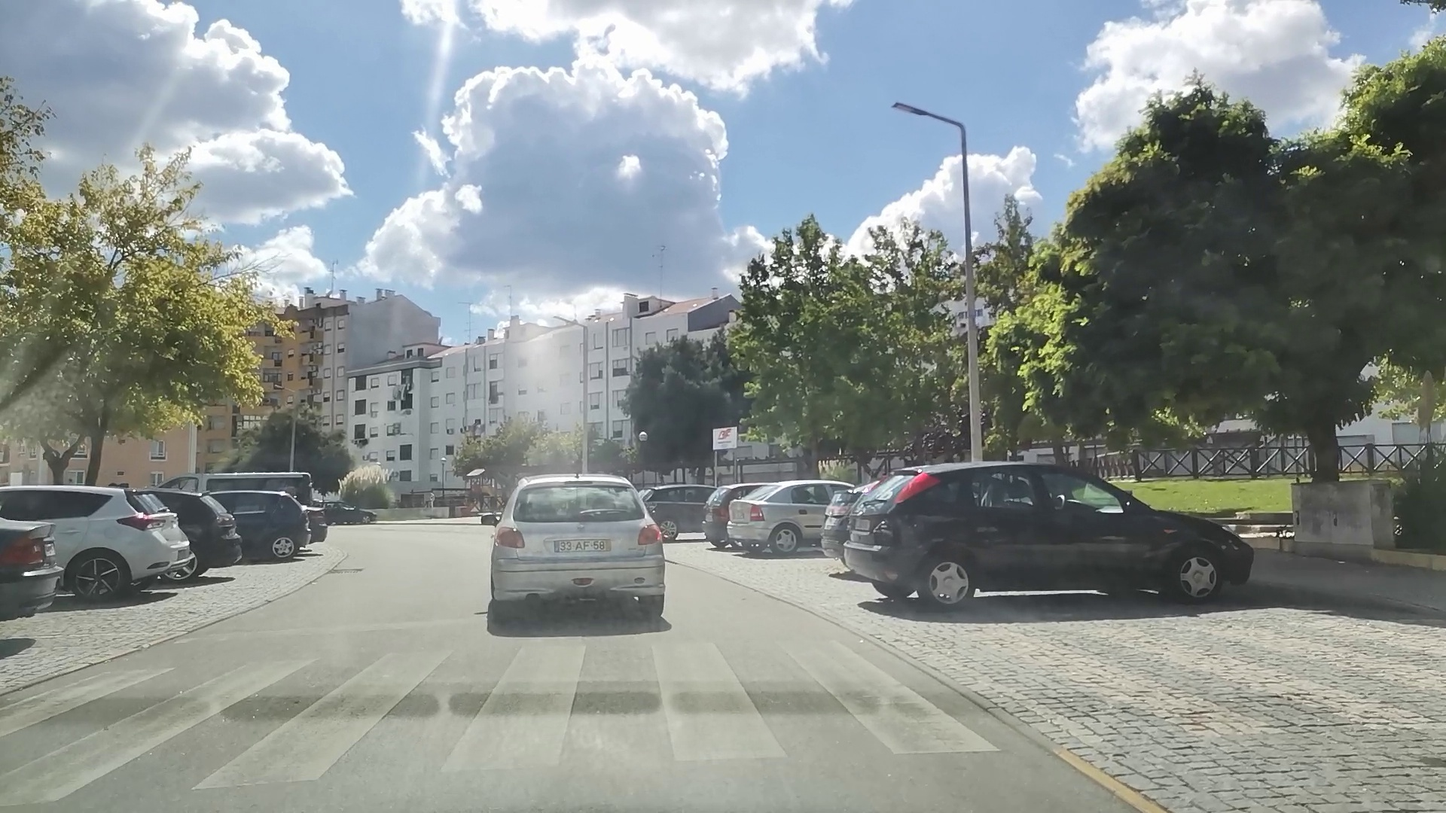Stairs: (0, 637, 997, 808)
